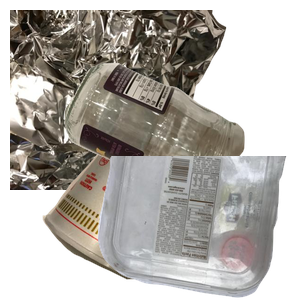glass: (62, 60, 300, 240)
metal: (10, 10, 229, 190)
plastic: (95, 156, 300, 300)
trash: (40, 121, 221, 300)
